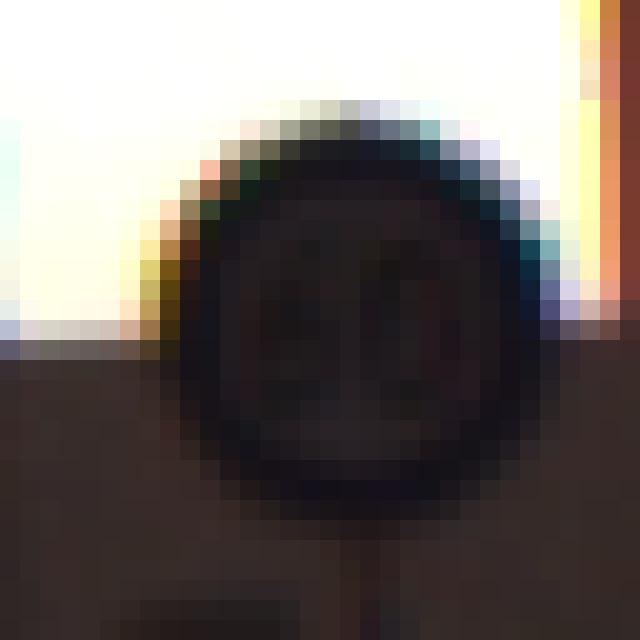SPEED-LIMIT-60: (140, 92, 578, 565)
